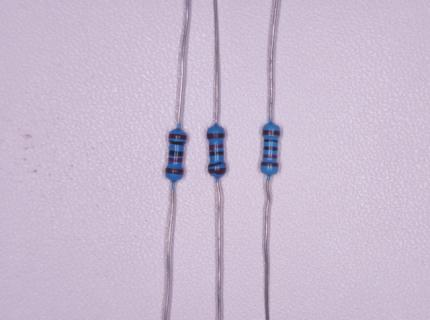Black band: (208, 161, 226, 167), (168, 150, 183, 156), (209, 151, 224, 156), (263, 146, 278, 151), (169, 141, 186, 145), (263, 139, 278, 143)
Brown band: (165, 167, 183, 175), (168, 133, 187, 140), (207, 133, 225, 139), (208, 168, 226, 174), (260, 162, 279, 167), (262, 130, 280, 135)
Red band: (168, 158, 182, 163), (209, 144, 223, 149), (263, 154, 277, 159)
